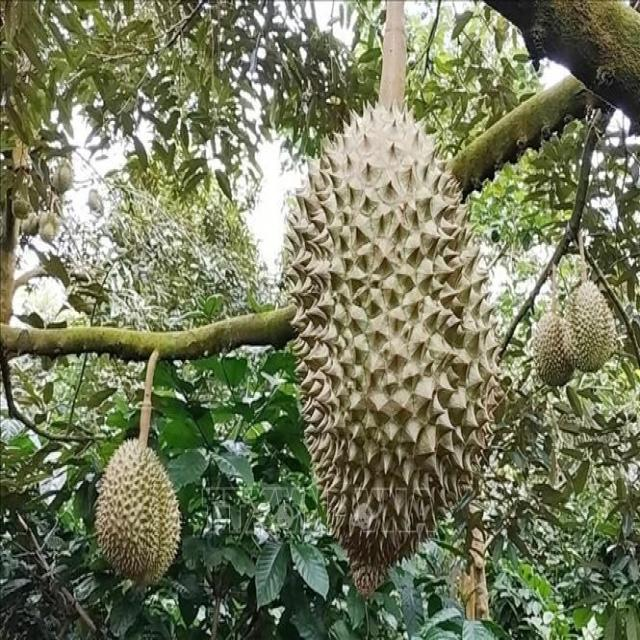Sau Rieng: (282, 108, 505, 576), (93, 441, 181, 584), (566, 280, 615, 372), (532, 309, 576, 386), (53, 159, 72, 192), (12, 197, 30, 220), (24, 211, 40, 235), (49, 212, 62, 236)
